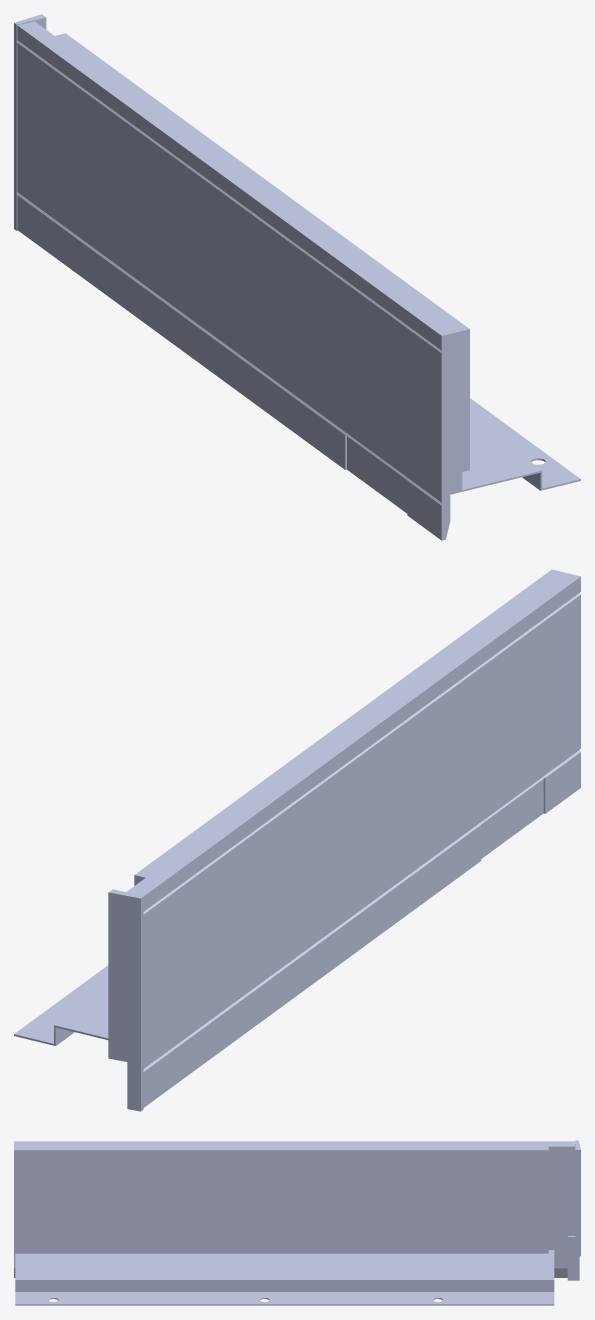
Rendered from lg-kava-M350-p.glb.
3 renders of one model, top to bottom at view 1: azimuth 30°, elevation 25°; view 2: azimuth 150°, elevation 25°; view 3: azimuth 270°, elevation 25°, orthographic. The views are drawn at different scales.
Parts seen in each view (by area): view 1: 40411482; view 2: 40411482; view 3: 40411482.
Boxes of the visible parts, bbox=[...] form: 40411482: bbox=[14, 14, 580, 540]; 40411482: bbox=[14, 569, 580, 1111]; 40411482: bbox=[14, 1140, 580, 1305].
Size of the model in its own units: 0.0653 by 0.0912 by 0.3435.
